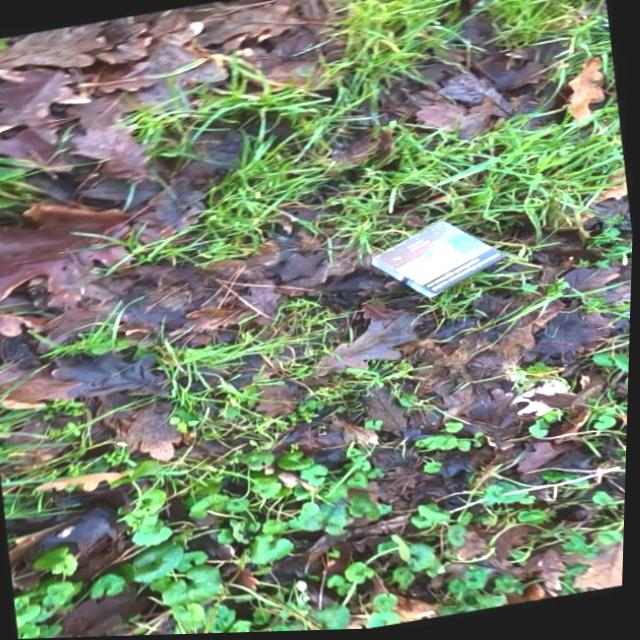Paper: (369, 218, 507, 305)
